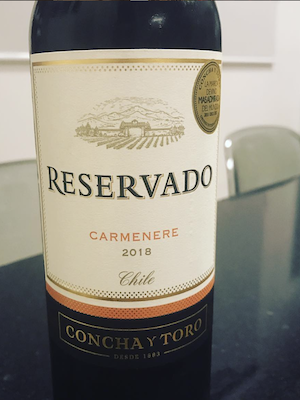reservado carmenere: (29, 8, 240, 400)
